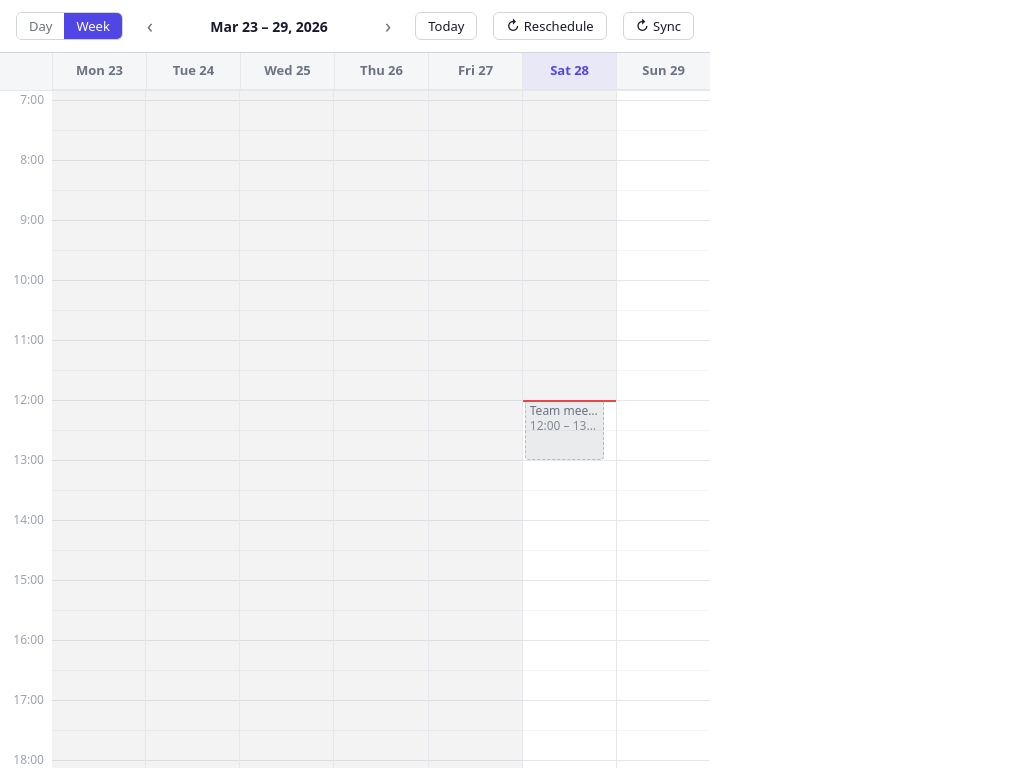
Scenario: CalendarView — external event editing › surfaces a sanitized delete (HTTP 500) error and keeps the dialog open
This screenshot has width=1024, height=768.
(page scrolled)
Click the button with class "external-event--interactive": (564, 430) [525,400,604,460]
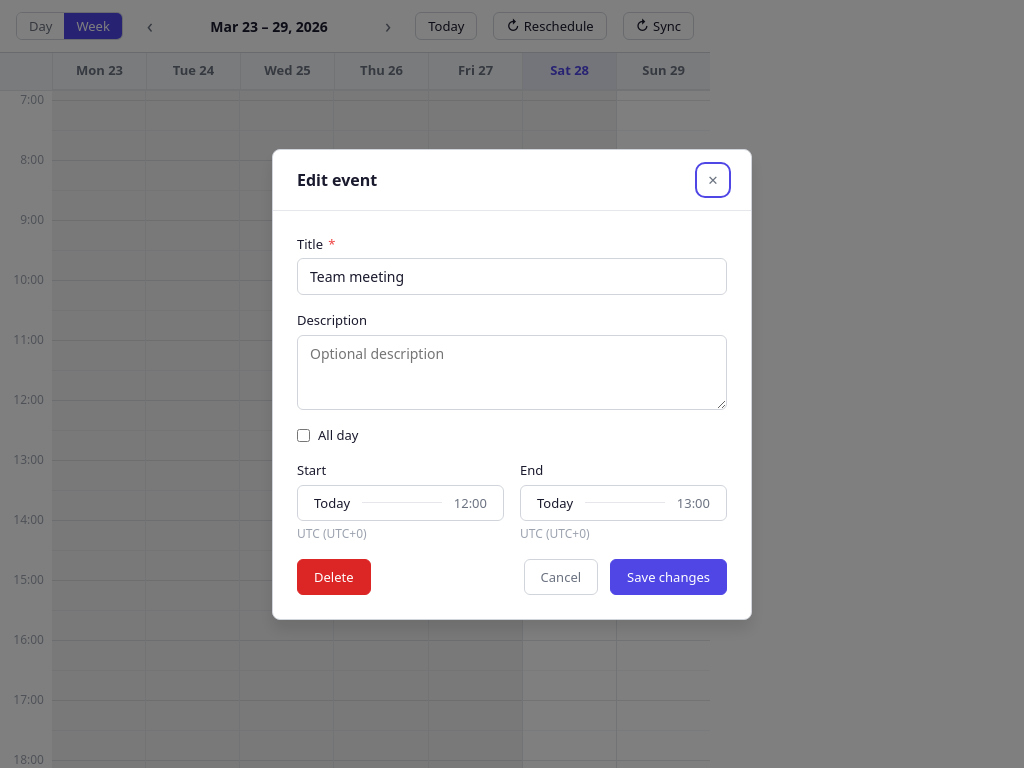
Click the button "Delete": (334, 576) [297,558,370,594]
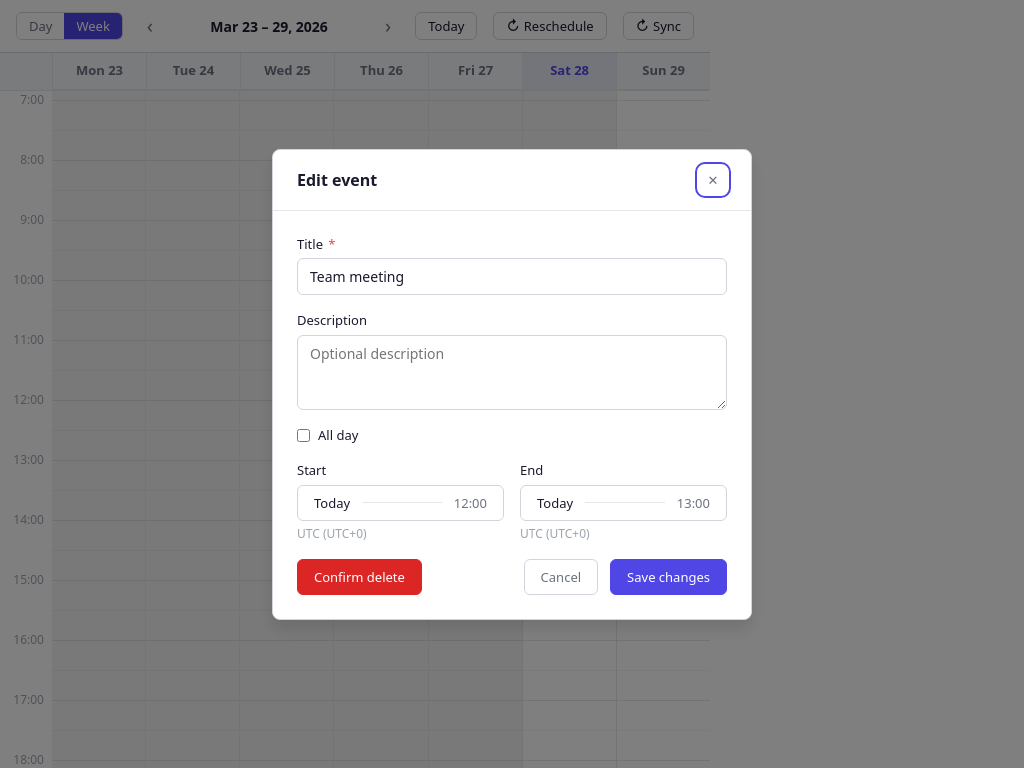
Click the button "Confirm delete": (359, 576) [297,558,422,594]
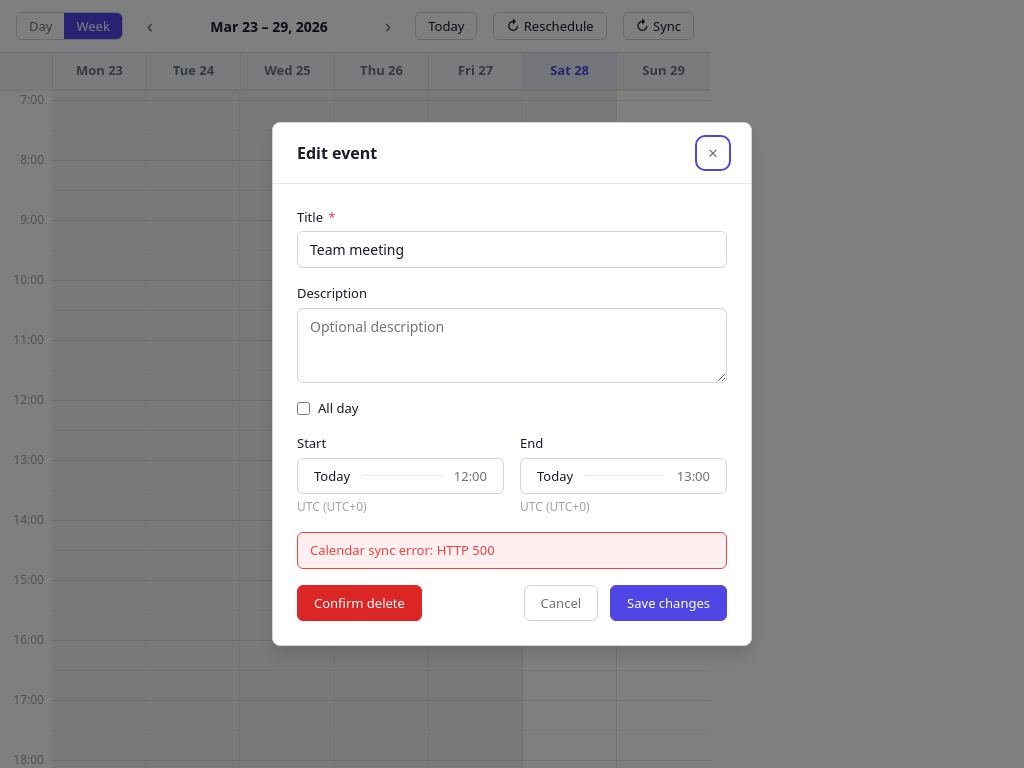
Now the heading "Edit event" is shown, box [297,143,377,163]
Now the message shows "HTTP 500", box [310,541,495,559]
